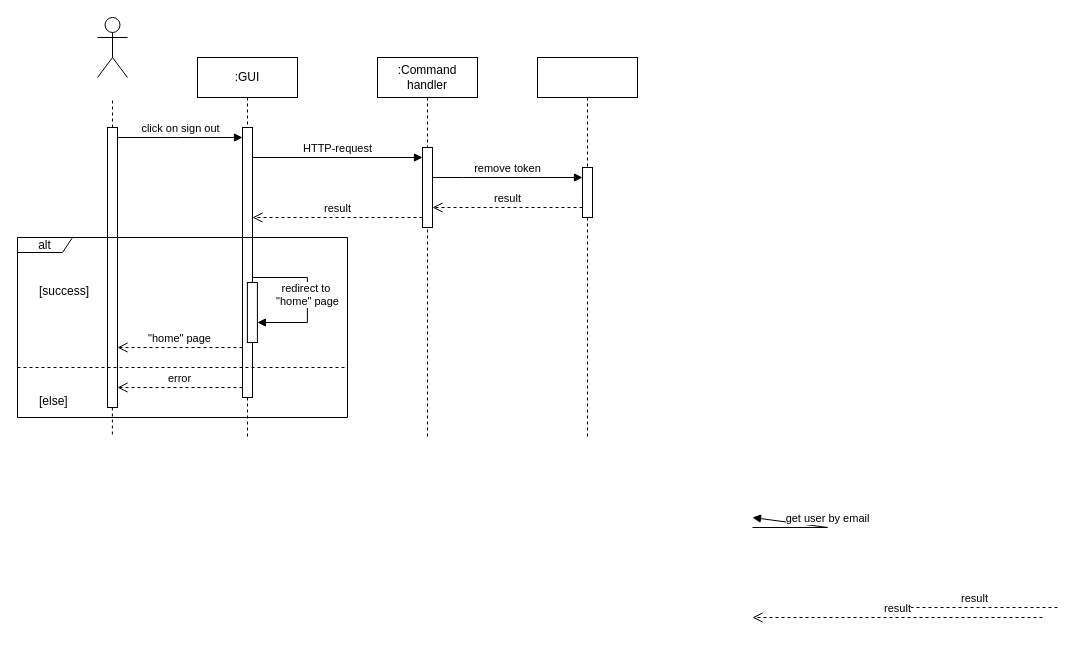
The diagram is 1085 pixels wide and 645 high, and some of its shapes have lost their labels. The centre of each missing label's shape, as x and y in pixels:
:JWT: the point at 587,247
Actor: the point at 112,47
